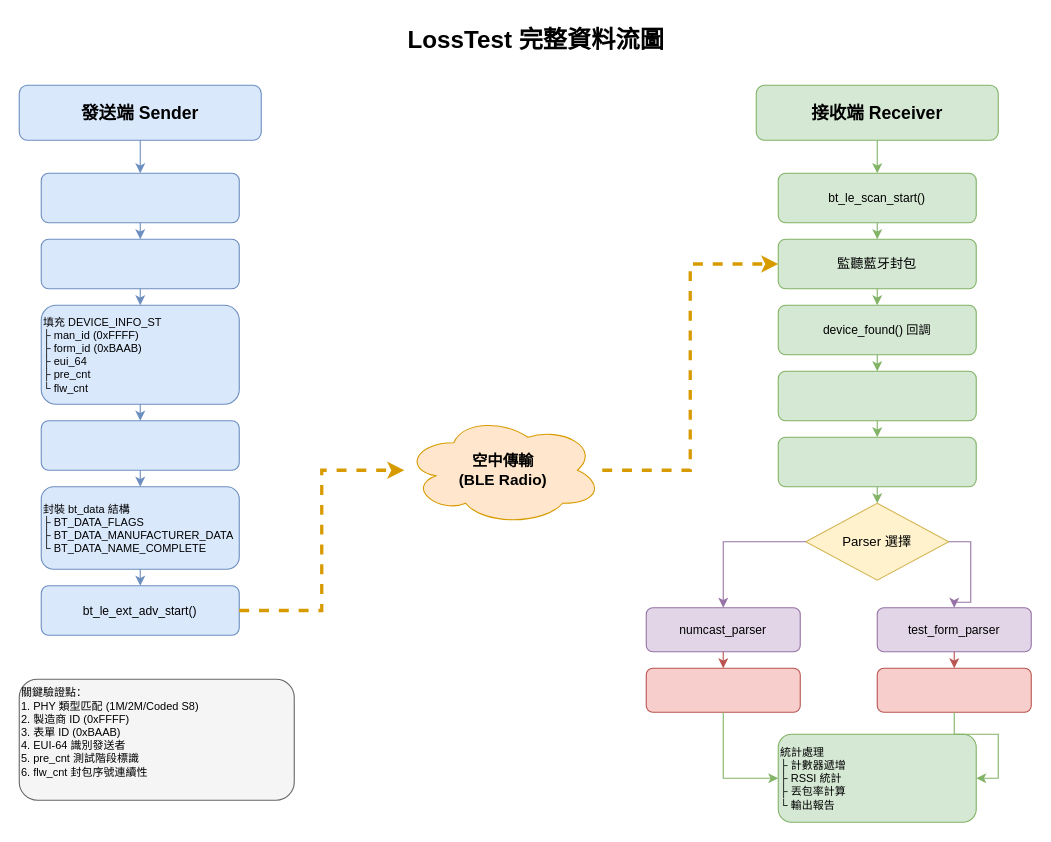
Image size: 1051x842. Some labels were removed from this diagram. The centre of each missing label's shape, as x and y in pixels:
"bt_data_parse()" goes at pixel 876 461.
"bt_le_ext_adv_set_data()" goes at pixel 139 445.
"numcast_packet_evt" goes at pixel 722 689.
"tst_form_packet_rcv" goes at pixel 953 689.
"update_adv()" goes at pixel 139 197.
"建立廣告集" goes at pixel 139 263.
"解析 PHY 類型判斷索引" goes at pixel 876 395.
